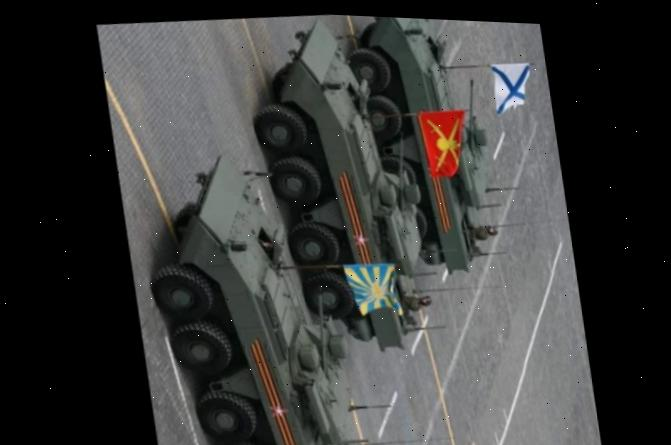armored_car: (234, 10, 445, 367), (128, 150, 375, 445), (341, 15, 512, 290)
